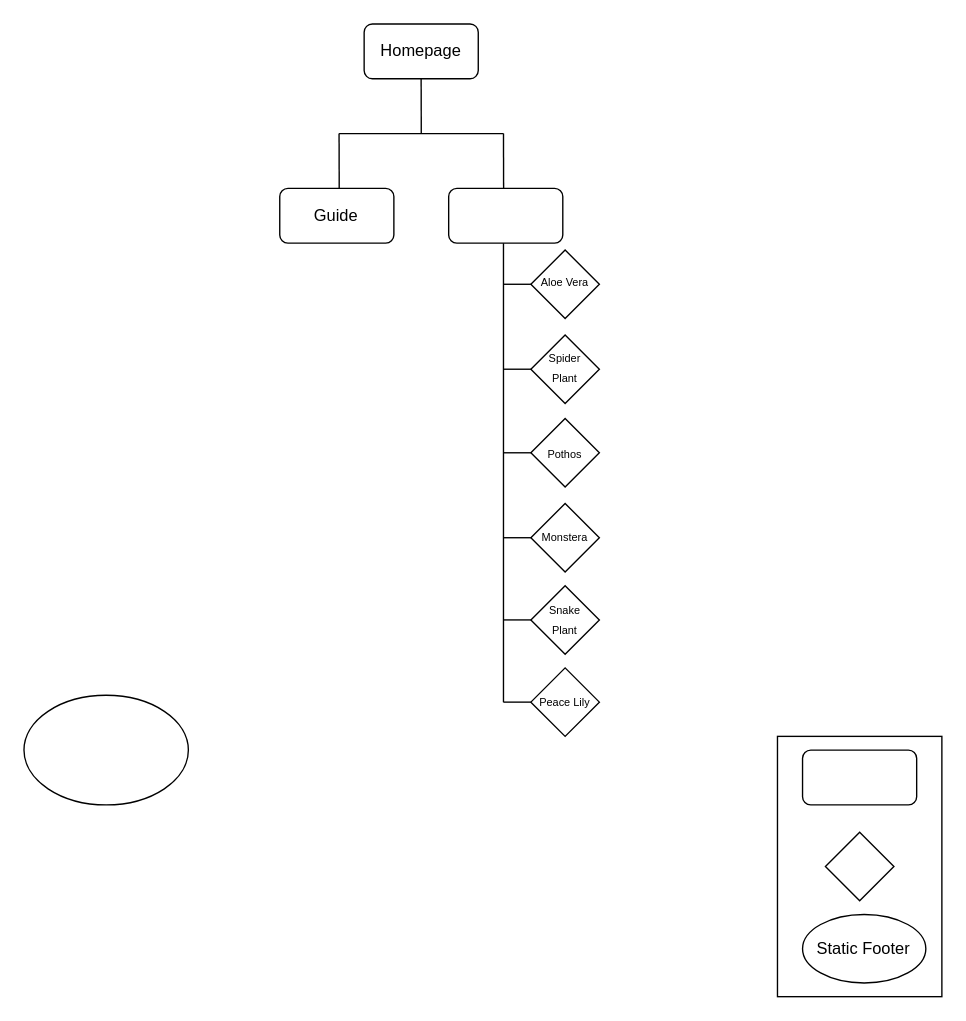
This 966x1021 diagram has some shape labels left out. Each missing label, with the centre of its shape:
"Footer Social media contact information" belongs at (105,749).
"Page" belongs at (859,777).
"Plants" belongs at (505,215).
"Sub-page" belongs at (859,866).
